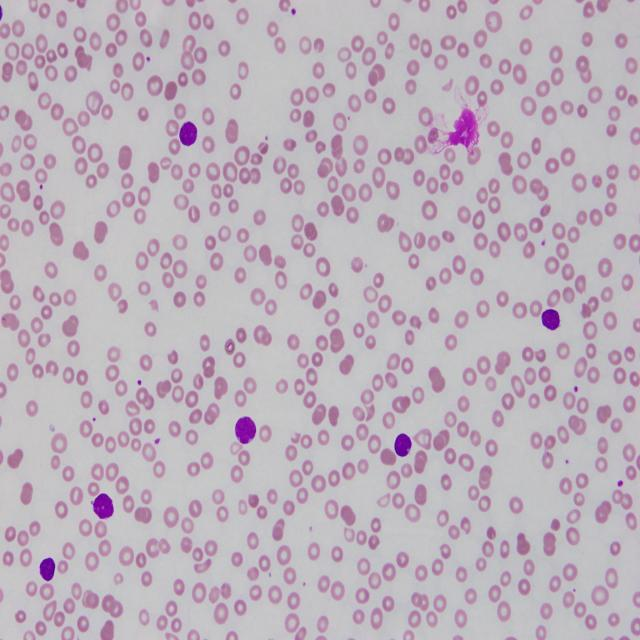cell: (92, 493, 114, 518), (235, 417, 256, 443), (179, 122, 198, 147), (541, 308, 560, 330), (394, 433, 411, 457), (40, 558, 55, 582)
